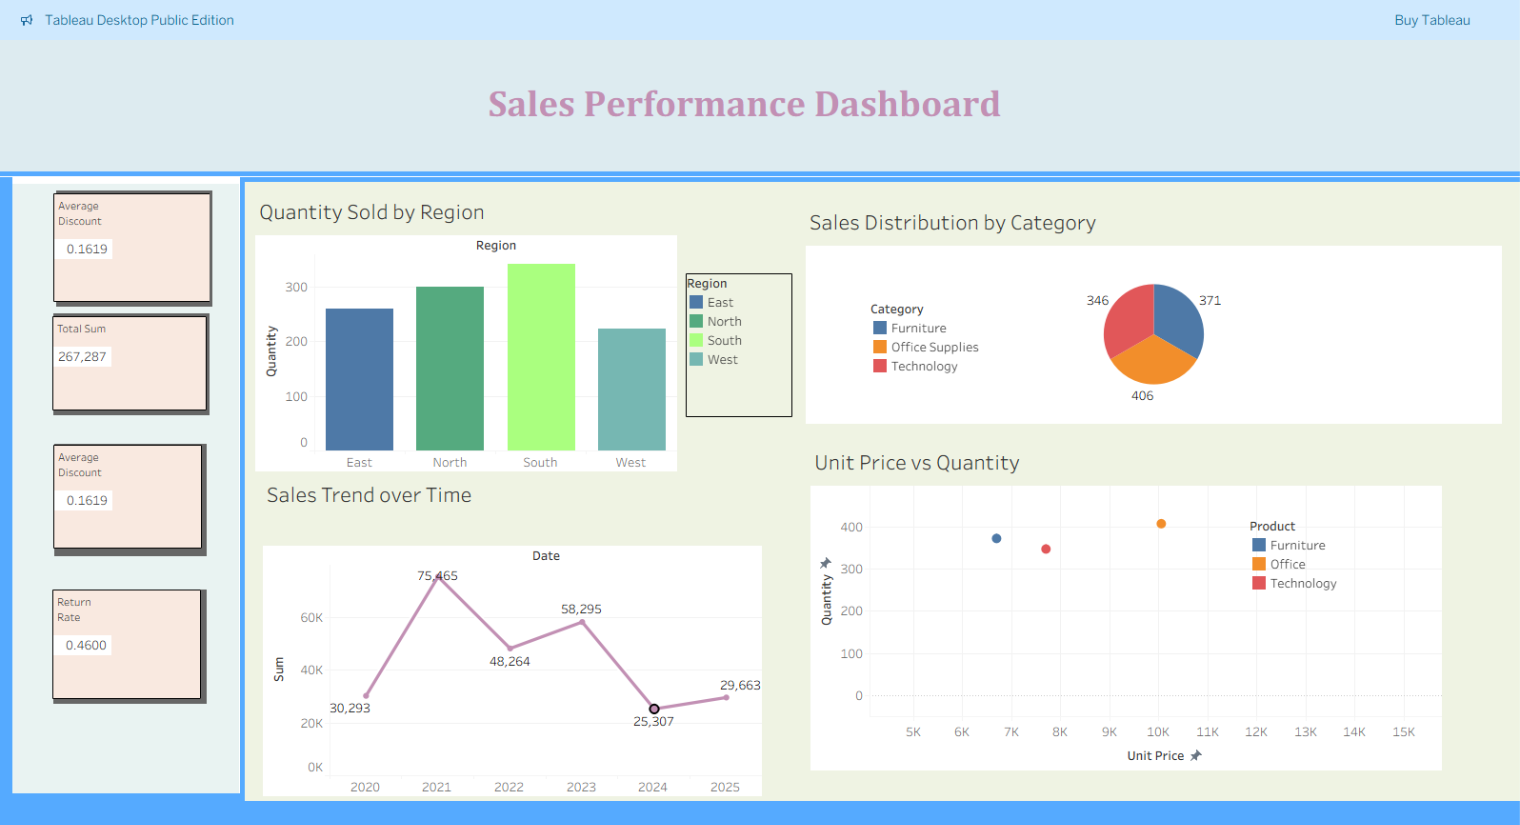

What the dashboard file says about the page in this screenshot:
{"tool":"tableau","page":{"name":"Dashboard 1","canvas":[1000,1000],"units":"permille","ordinal":0},"visuals":[{"type":"title","box":[5.9,13.2,988.1,71.2]},{"type":"text","box":[246.7,41.4,483.7,77.8]},{"type":"blank","box":[37,191.2,102.2,147.2]},{"type":"worksheet","title":"Sheet 5","mark":"Automatic","box":[34.8,194.2,103,138.1]},{"type":"worksheet","title":"Sheet 1","mark":"Bar","rows":["Quantity"],"cols":["Region"],"box":[167.4,194.2,277,353.6]},{"type":"worksheet","title":"Sheet 3","mark":"Pie","box":[528.9,207.9,457,288.3]},{"type":"legend","title":"Sheet 1","param":"[federated.172ykmm0bndp4k10ikqxk0gxyzk6].[attr:Region:nk]","box":[450.3,295.7,69.7,182.7]},{"type":"legend","title":"Sheet 3","param":"[federated.172ykmm0bndp4k10ikqxk0gxyzk6].[none:Category:nk]","box":[571.3,329.8,94.1,126.1]},{"type":"blank","box":[34.8,347.5,103,129]},{"type":"worksheet","title":"Sheet 6","mark":"Automatic","box":[34.1,350.5,101.5,119.9]},{"type":"blank","box":[35.6,512.9,100,142.6]},{"type":"worksheet","title":"Sheet 4","mark":"Pie","rows":["Quantity"],"cols":["Unit Price"],"box":[532,513.3,414.4,415.3]},{"type":"worksheet","title":"Sheet 7","mark":"Automatic","box":[34.8,514.4,97.8,132]},{"type":"worksheet","title":"Sheet 2","mark":"Line","rows":["sum"],"cols":["Date"],"box":[172.6,553.9,327.4,406.7]},{"type":"legend","title":"Sheet 4","param":"[federated.172ykmm0bndp4k10ikqxk0gxyzk6].[none:Category - Split 1:nk]","box":[820,606.3,112,131.2]},{"type":"worksheet","title":"Sheet 8","mark":"Automatic","box":[34.4,697.7,97.6,139.5]},{"type":"blank","box":[34.8,698,100.7,145.7]}]}

Visuals, with their boxes on the dashboard's canvas, which has no fixed pixel size, in thousandths of its width and height (x1, y1, x2, y2). These are canvas units, not pixel positions in the 1520x825 screenshot, which may show the page scaled, cropped or inside an application window:
title: region(6, 13, 994, 84)
text: region(247, 41, 730, 119)
blank: region(37, 191, 139, 338)
"Sheet 5" worksheet: region(35, 194, 138, 332)
"Sheet 1" worksheet (Bar marks): region(167, 194, 444, 548)
"Sheet 3" worksheet (Pie marks): region(529, 208, 986, 496)
"Sheet 1" legend: region(450, 296, 520, 478)
"Sheet 3" legend: region(571, 330, 665, 456)
blank: region(35, 348, 138, 476)
"Sheet 6" worksheet: region(34, 350, 136, 470)
blank: region(36, 513, 136, 656)
"Sheet 4" worksheet (Pie marks): region(532, 513, 946, 929)
"Sheet 7" worksheet: region(35, 514, 133, 646)
"Sheet 2" worksheet (Line marks): region(173, 554, 500, 961)
"Sheet 4" legend: region(820, 606, 932, 738)
"Sheet 8" worksheet: region(34, 698, 132, 837)
blank: region(35, 698, 136, 844)
